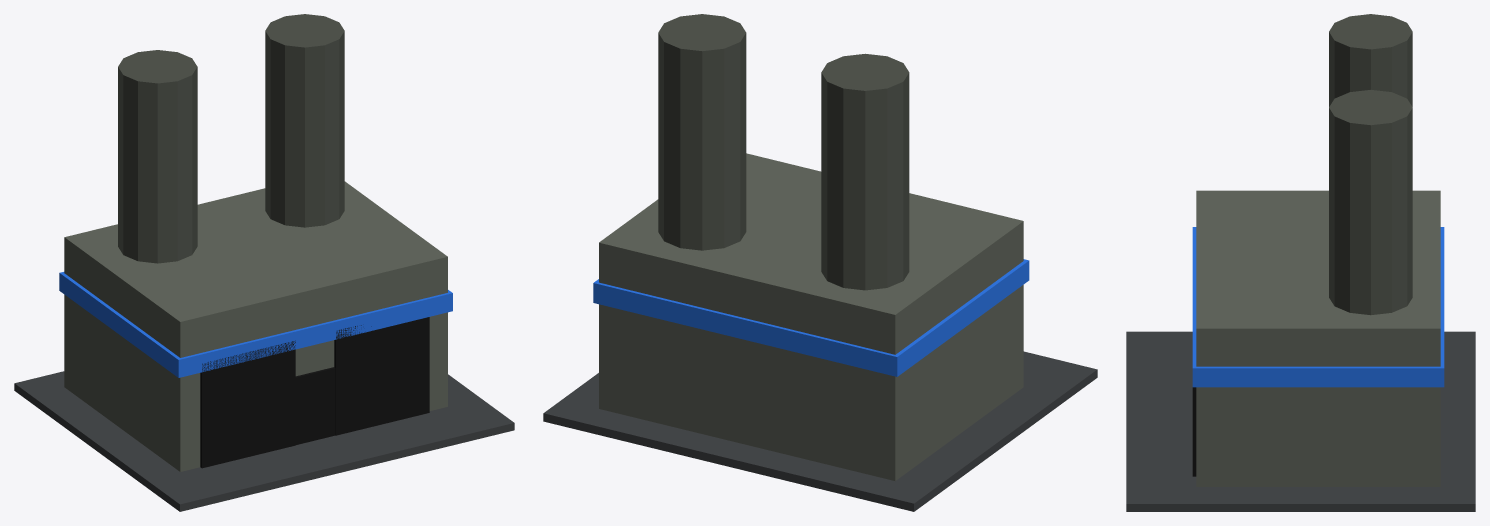
File: eu_vehicle_works.glb
3 views of the same model, side by side, from view 1: azimuth 30°, elevation 25°; view 2: azimuth 150°, elevation 25°; view 3: azimuth 270°, elevation 25° (orthographic). The views are drawn at different scales.
Parts seen in each view (by area): view 1: main, base, stack_0, stack_1, garage_0, garage_1, team_band, door; view 2: main, stack_1, stack_0, base, team_band; view 3: main, base, stack_1, team_band, stack_0, garage_1.
Part boxes in pixels (<box>): main: <box>64,181,447,471</box>; base: <box>14,371,514,511</box>; stack_0: <box>118,50,197,263</box>; stack_1: <box>265,14,344,227</box>; garage_0: <box>200,340,295,468</box>; garage_1: <box>334,317,429,435</box>; team_band: <box>59,272,452,377</box>; door: <box>295,367,335,444</box>; main: <box>599,153,1023,480</box>; stack_1: <box>658,14,746,250</box>; stack_0: <box>821,53,909,290</box>; base: <box>543,351,1097,511</box>; team_band: <box>593,259,1029,376</box>; main: <box>1196,190,1440,486</box>; base: <box>1126,331,1475,511</box>; stack_1: <box>1329,90,1412,315</box>; team_band: <box>1192,227,1444,387</box>; stack_0: <box>1329,14,1412,106</box>; garage_1: <box>1192,387,1196,476</box>.
Bounding box in the file's own units: 14 × 13.5 × 12.
